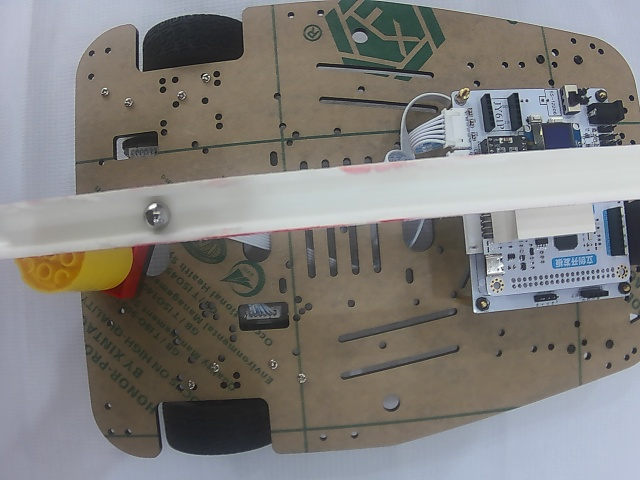steelball: (141, 200, 174, 230)
